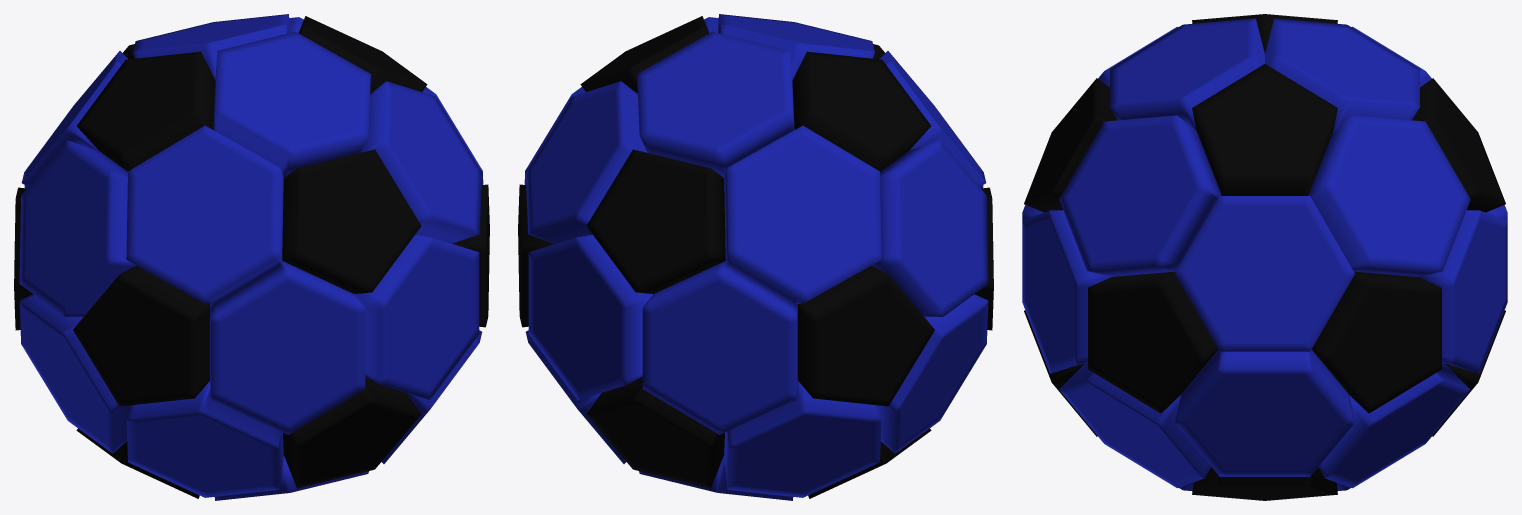
The model's file is ballB.dae.
3 renders of one model, left to right at view 1: azimuth 30°, elevation 25°; view 2: azimuth 150°, elevation 25°; view 3: azimuth 270°, elevation 25°, orthographic.
Visible parts, largest first — view 1: ball; view 2: ball; view 3: ball.
Boxes of the visible parts, bbox=[...] form: ball: bbox=[14, 14, 489, 500]; ball: bbox=[518, 14, 993, 500]; ball: bbox=[1022, 14, 1507, 500].
Size of the model in its own units: 2.01 by 2.01 by 2.01.
